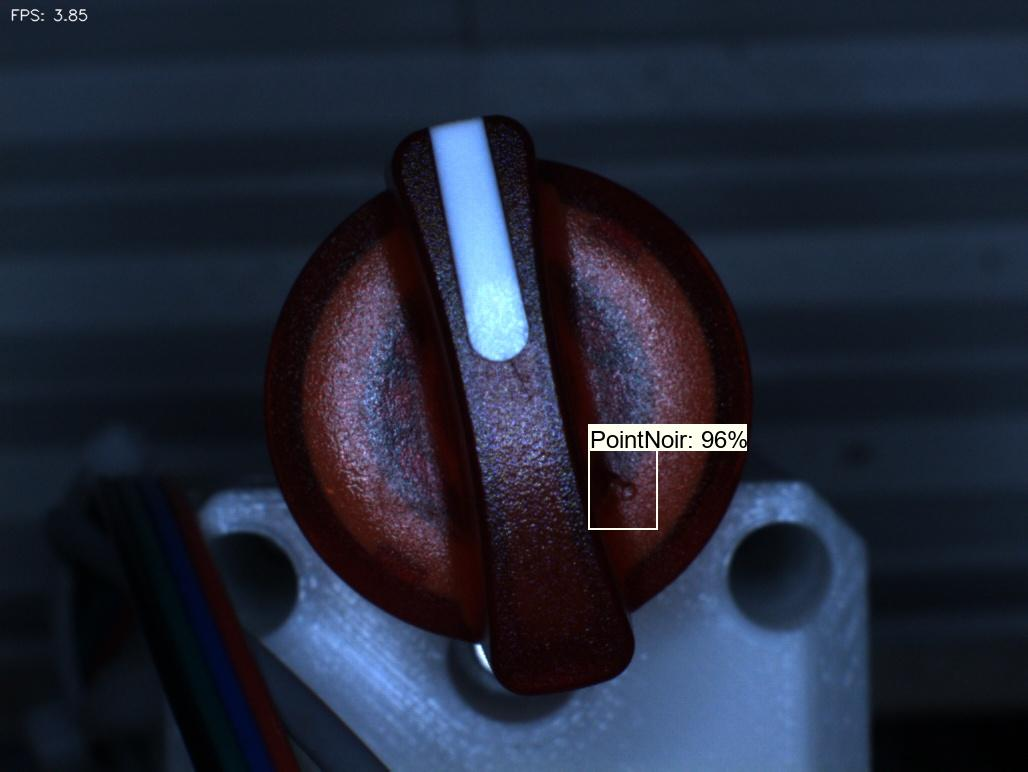Choc: (592, 454, 657, 523)
